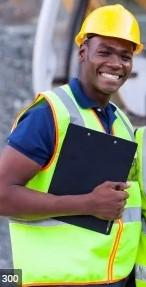hat: (76, 2, 144, 46)
no protective face gear: (80, 38, 134, 93)
vest: (14, 87, 139, 281)
